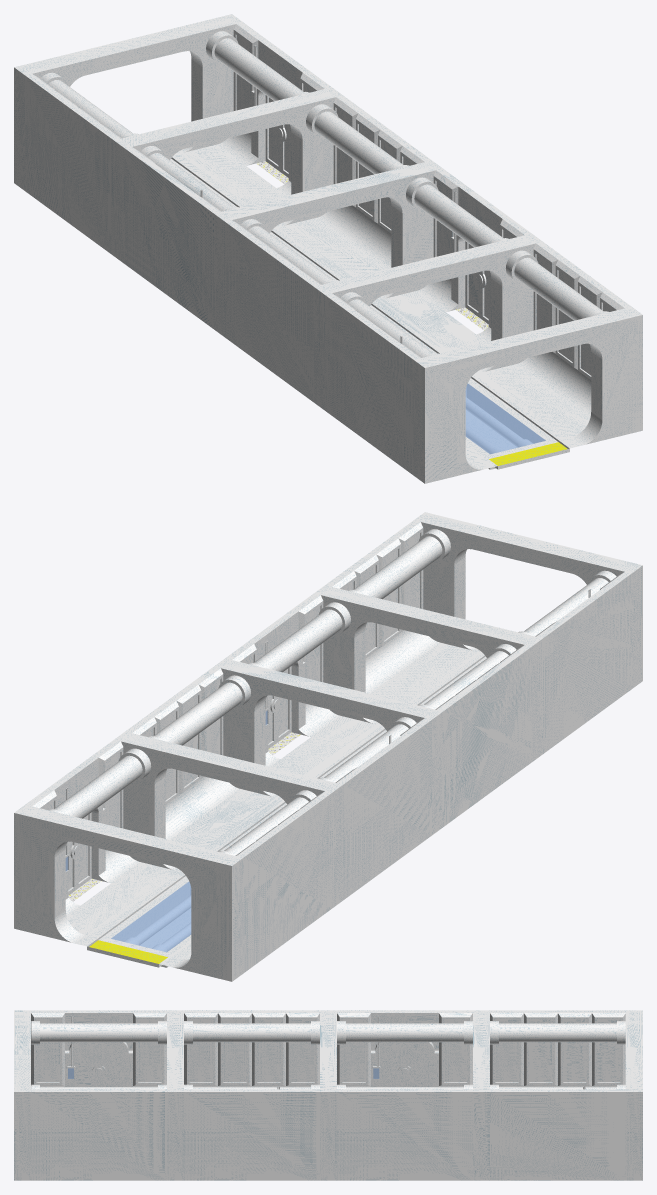
Rendered from ship_corridor.dae.
The picture shows the model from 3 angles, top to bottom: view 1: azimuth 30°, elevation 25°; view 2: azimuth 150°, elevation 25°; view 3: azimuth 270°, elevation 25°; orthographic projection. The views are drawn at different scales.
Parts seen in each view (by area): view 1: SketchUp, SketchUp.003, SketchUp.081, SketchUp.165, SketchUp.150, SketchUp.146, SketchUp.153; view 2: SketchUp, SketchUp.003, SketchUp.081, SketchUp.162, SketchUp.147, SketchUp.143, SketchUp.161; view 3: SketchUp, SketchUp.081, SketchUp.003, SketchUp.087, SketchUp.083, SketchUp.082, SketchUp.102, SketchUp.136, SketchUp.120, SketchUp.111, SketchUp.108, SketchUp.130 (+7 smaller).
Part boxes in pixels (bbox=[...]): SketchUp: bbox=[14, 14, 642, 483]; SketchUp.003: bbox=[214, 38, 602, 320]; SketchUp.081: bbox=[48, 80, 432, 357]; SketchUp.165: bbox=[465, 383, 545, 454]; SketchUp.150: bbox=[466, 384, 545, 469]; SketchUp.146: bbox=[489, 442, 567, 465]; SketchUp.153: bbox=[466, 397, 522, 446]; SketchUp: bbox=[14, 512, 642, 981]; SketchUp.003: bbox=[54, 536, 442, 818]; SketchUp.081: bbox=[224, 578, 608, 855]; SketchUp.162: bbox=[111, 881, 191, 952]; SketchUp.147: bbox=[111, 882, 190, 967]; SketchUp.143: bbox=[89, 940, 167, 963]; SketchUp.161: bbox=[134, 895, 190, 944]; SketchUp: bbox=[14, 1010, 642, 1180]; SketchUp.081: bbox=[40, 1023, 616, 1042]; SketchUp.003: bbox=[40, 1087, 616, 1089]; SketchUp.087: bbox=[529, 1019, 552, 1082]; SketchUp.083: bbox=[257, 1019, 280, 1082]; SketchUp.082: bbox=[223, 1019, 246, 1082]; SketchUp.102: bbox=[563, 1019, 586, 1082]; SketchUp.136: bbox=[138, 1019, 161, 1082]; SketchUp.120: bbox=[342, 1019, 365, 1082]; SketchUp.111: bbox=[495, 1019, 518, 1082]; SketchUp.108: bbox=[291, 1019, 314, 1082]; SketchUp.130: bbox=[444, 1019, 467, 1082].
Bounding box in the file's own units: 6.31 × 20.58 × 3.68.
6 materials, 1 textured.
